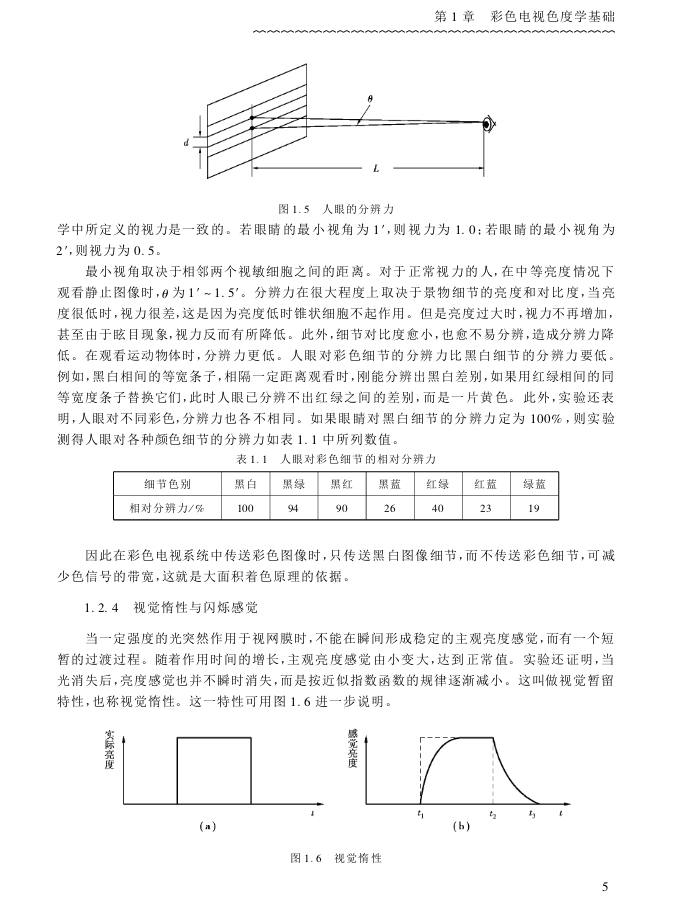table: (112, 471, 560, 520)
